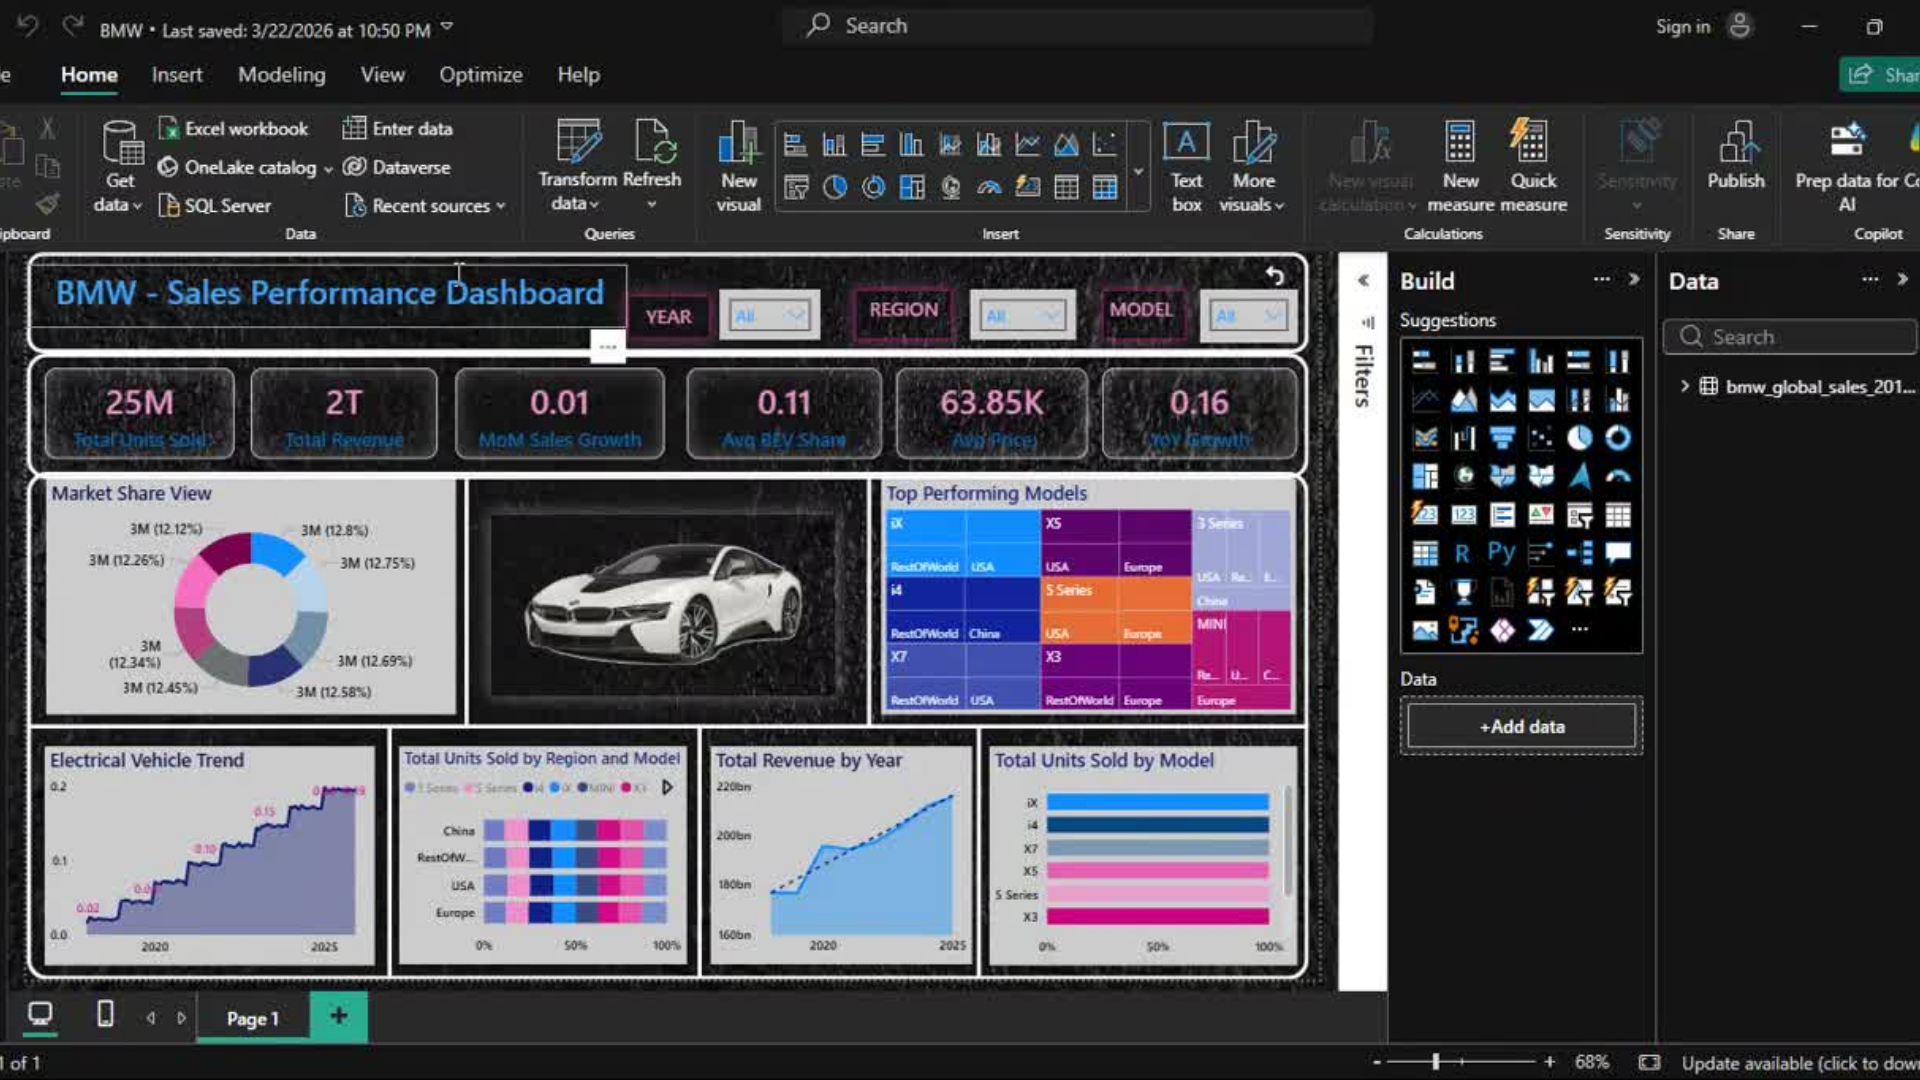

The page's visual inventory and layout, read from the dashboard file:
{"tool":"powerbi","page":{"name":"Page 1","canvas":[1280,720],"ordinal":0},"visuals":[{"type":"shape","box":[0,0,1270,100],"z":0},{"type":"shape","box":[0,217.5,1269.8,503.2],"z":1000},{"type":"shape","box":[0,100,1270,125],"z":2000},{"type":"card","fields":{"Values":["bmw_global_sales_2018_2025.Total Units Sold"]},"box":[18.3,115,188.3,90],"z":3000},{"type":"card","fields":{"Values":["bmw_global_sales_2018_2025.Avg BEV Share"]},"box":[653.3,115,193.3,90],"z":4000},{"type":"card","fields":{"Values":["bmw_global_sales_2018_2025.Avg Price"]},"box":[861.7,115,190,90],"z":5000},{"type":"card","fields":{"Values":["bmw_global_sales_2018_2025.YoY Growth"]},"box":[1065,115,193.3,90],"z":6000},{"type":"card","fields":{"Values":["bmw_global_sales_2018_2025.Total Revenue"]},"box":[221.7,115,185,90],"z":7000},{"type":"card","fields":{"Values":["bmw_global_sales_2018_2025.MoM Sales Growth"]},"box":[425,115,206.7,90],"z":8000},{"type":"hundredPercentStackedBarChart","fields":{"Category":["bmw_global_sales_2018_2025.Model"],"Y":["bmw_global_sales_2018_2025.Total Units Sold"]},"box":[953.3,490,305,216.7],"z":9000},{"type":"donutChart","title":"Market Share View","fields":{"Category":["bmw_global_sales_2018_2025.Model"],"Y":["bmw_global_sales_2018_2025.Total Units Sold"]},"box":[19,225.4,406.3,233.3],"z":10000},{"type":"treemap","title":"Top Performing Models","fields":{"Values":["bmw_global_sales_2018_2025.Total Units Sold"],"Group":["bmw_global_sales_2018_2025.Model"],"Details":["bmw_global_sales_2018_2025.Region"]},"box":[846,225.4,411.1,233.3],"z":11000},{"type":"hundredPercentStackedBarChart","fields":{"Series":["bmw_global_sales_2018_2025.Model"],"Category":["bmw_global_sales_2018_2025.Region"],"Y":["bmw_global_sales_2018_2025.Total Units Sold"]},"box":[368.8,489.3,285.1,216],"z":12000},{"type":"lineChart","title":"Electrical Vehicle Trend","fields":{"Y":["bmw_global_sales_2018_2025.Avg BEV Share"],"Category":["bmw_global_sales_2018_2025.Date.Variation.Date Hierarchy.Year","bmw_global_sales_2018_2025.Date.Variation.Date Hierarchy.Quarter","bmw_global_sales_2018_2025.Date.Variation.Date Hierarchy.Month","bmw_global_sales_2018_2025.Date.Variation.Date Hierarchy.Day"]},"box":[18.3,490,326.7,216.7],"z":13000},{"type":"image","box":[460.3,260.3,341.3,179.4],"z":14000},{"type":"areaChart","fields":{"Category":["bmw_global_sales_2018_2025.Date.Variation.Date Hierarchy.Year","bmw_global_sales_2018_2025.Date.Variation.Date Hierarchy.Quarter","bmw_global_sales_2018_2025.Date.Variation.Date Hierarchy.Month","bmw_global_sales_2018_2025.Date.Variation.Date Hierarchy.Day"],"Y":["bmw_global_sales_2018_2025.Total Revenue"]},"box":[677.4,489.3,258.6,216],"z":15000},{"type":"shape","box":[0,436.5,1269.8,66.7],"z":16000},{"type":"shape","box":[327,469.8,63.5,250.8],"z":17000},{"type":"shape","box":[915.9,469.8,55.6,250.8],"z":18000},{"type":"shape","box":[634.9,469.8,63.5,250.8],"z":19000},{"type":"shape","box":[425.4,222.2,19,247.6],"z":20000},{"type":"shape","box":[806.3,225.4,55.6,244.4],"z":21000},{"type":"textbox","box":[0,11.8,595.1,63.2],"z":22000},{"type":"slicer","fields":{"Values":["bmw_global_sales_2018_2025.Year"]},"box":[686.7,36.7,100,50],"z":23000},{"type":"textbox","box":[595,43.3,81.7,43.3],"z":24000},{"type":"textbox","box":[820,36.7,96.7,50],"z":25000},{"type":"slicer","fields":{"Values":["bmw_global_sales_2018_2025.Region"]},"box":[935,36.7,105,50],"z":26000},{"type":"textbox","box":[1065,36.7,83.3,50],"z":27000},{"type":"slicer","fields":{"Values":["bmw_global_sales_2018_2025.Model"]},"box":[1161.7,36.7,96.7,53.3],"z":28000},{"type":"actionButton","box":[1222.5,8.8,36.7,27.9],"z":28001}]}

Visuals, with their boxes on the page's 1280x720 design canvas (x1, y1, x2, y2). These are canvas units, not pixel positions in the 1920x1080 screenshot, which may show the page scaled, cropped or inside an application window:
shape: box=[0, 0, 1270, 100]
shape: box=[0, 218, 1270, 721]
shape: box=[0, 100, 1270, 225]
card - bmw_global_sales_2018_2025.Total Units Sold: box=[18, 115, 207, 205]
card - bmw_global_sales_2018_2025.Avg BEV Share: box=[653, 115, 847, 205]
card - bmw_global_sales_2018_2025.Avg Price: box=[862, 115, 1052, 205]
card - bmw_global_sales_2018_2025.YoY Growth: box=[1065, 115, 1258, 205]
card - bmw_global_sales_2018_2025.Total Revenue: box=[222, 115, 407, 205]
card - bmw_global_sales_2018_2025.MoM Sales Growth: box=[425, 115, 632, 205]
hundredPercentStackedBarChart - bmw_global_sales_2018_2025.Model x bmw_global_sales_2018_2025.Total Units Sold: box=[953, 490, 1258, 707]
"Market Share View" donutChart: box=[19, 225, 425, 459]
"Top Performing Models" treemap: box=[846, 225, 1257, 459]
hundredPercentStackedBarChart - bmw_global_sales_2018_2025.Model x bmw_global_sales_2018_2025.Region: box=[369, 489, 654, 705]
"Electrical Vehicle Trend" lineChart: box=[18, 490, 345, 707]
image: box=[460, 260, 802, 440]
areaChart - bmw_global_sales_2018_2025.Date.Variation.Date Hierarchy.Year x bmw_global_sales_2018_2025.Date.Variation.Date Hierarchy.Quarter: box=[677, 489, 936, 705]
shape: box=[0, 436, 1270, 503]
shape: box=[327, 470, 390, 721]
shape: box=[916, 470, 972, 721]
shape: box=[635, 470, 698, 721]
shape: box=[425, 222, 444, 470]
shape: box=[806, 225, 862, 470]
textbox: box=[0, 12, 595, 75]
slicer - bmw_global_sales_2018_2025.Year: box=[687, 37, 787, 87]
textbox: box=[595, 43, 677, 87]
textbox: box=[820, 37, 917, 87]
slicer - bmw_global_sales_2018_2025.Region: box=[935, 37, 1040, 87]
textbox: box=[1065, 37, 1148, 87]
slicer - bmw_global_sales_2018_2025.Model: box=[1162, 37, 1258, 90]
actionButton: box=[1222, 9, 1259, 37]
